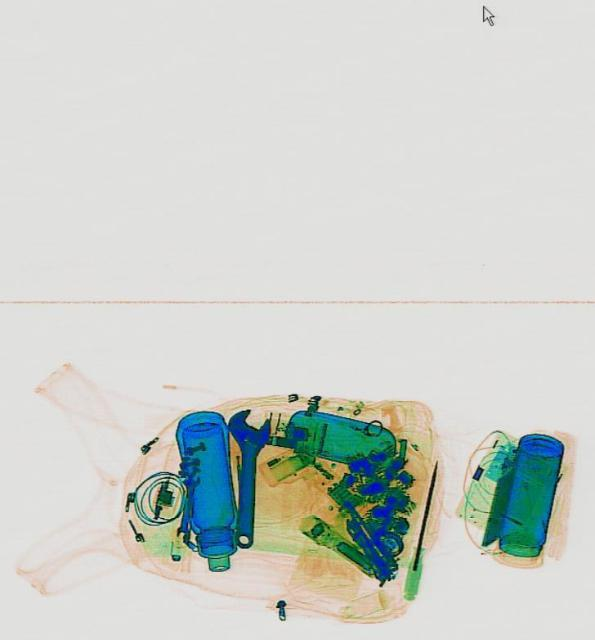Wrench: (219, 408, 271, 548)
